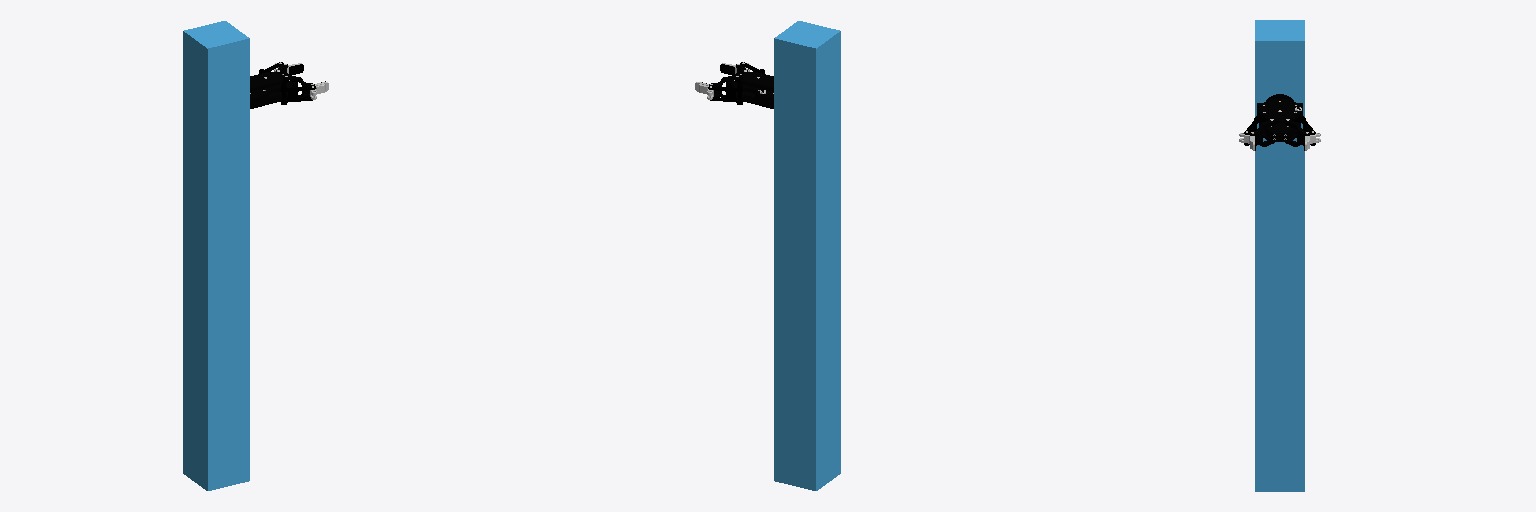
The robot description file, URDF, robot "dh_robotics_ag95_gripper":
<?xml version="1.0" ?>
<!-- =================================================================================== -->
<!-- |    This document was autogenerated by xacro from gripper.xacro | -->
<!-- |    EDITING THIS FILE BY HAND IS NOT RECOMMENDED                                 | -->
<!-- =================================================================================== -->
<robot name="dh_robotics_ag95_gripper" xmlns:xacro="http://ros.org/wiki/xacro">
  <gazebo>
    <plugin filename="libgazebo_ros_control.so" name="gazebo_ros_control">
      <robotNamespace>/</robotNamespace>
    </plugin>
  </gazebo>
  <link name="world"/>
  <joint name="world_fixed" type="fixed">
    <origin rpy="0 0 0" xyz="0 0 0"/>
    <parent link="world"/>
    <child link="gripper_root_link"/>
  </joint>
  <link name="gripper_root_link">
    <visual>
      <origin rpy="0 0 0" xyz="0 0 0.5"/>
      <geometry>
        <box size="0.1 0.1 1.0"/>
      </geometry>
    </visual>
    <collision>
      <origin rpy="0 0 0" xyz="0 0 0.5"/>
      <geometry>
        <box size="0.1 0.1 1.0"/>
      </geometry>
    </collision>
    <inertial>
      <mass value="1e2"/>
      <origin xyz="0.0 0.0 0.0"/>
      <inertia ixx="0.000001" ixy="0.000000" ixz="0.000000" iyx="0.000000" iyy="0.000001" iyz="0.000000" izx="0.000000" izy="0.000000" izz="0.000001"/>
    </inertial>
  </link>
  <joint name="ee_fixed_joint" type="fixed">
    <parent link="gripper_root_link"/>
    <child link="ee_link"/>
    <origin rpy="0 0 0" xyz="0.05 0 0.85"/>
  </joint>
  <link name="ee_link"/>

  <joint name="gripper_base_joint" type="fixed">
    <parent link="ee_link"/>
    <child link="gripper_base_link"/>
    <origin rpy="1.57075 0 1.57075" xyz="0 0 0"/>
  </joint>
  <link name="gripper_base_link">
    <visual>
        <geometry>
          <mesh filename="package://gripper/meshes/base_link.dae"  />
        </geometry>
    </visual>
    <collision>
        <geometry>
            <mesh filename="package://gripper/meshes/base_link.dae"  />
        </geometry>
    </collision>
        <inertial>
          <mass value="0.83416" />
            <origin xyz="0.0 0.0 0.0" />
              <inertia ixx = "0.0013016" ixy = "-6.9374e-07" ixz = "5.9848e-07"
                       iyx = "0.000000" iyy = "0.00049972" iyz = "2.0244E-07"
                       izx = "0.000000" izy = "0.000000" izz = "0.001498" />
       </inertial>
    </link>
  <gazebo reference="gripper_base_link">
    <implicitSpringDamper>1</implicitSpringDamper>
    <mu1>100000</mu1>
    <mu2>100000</mu2>
    <kp>100000000.0</kp>
    <kd>1.0</kd>
  </gazebo>
  <joint name="gripper_finger1_joint" type="revolute">
    <parent link="gripper_base_link"/>
    <child link="gripper_finger1_knuckle_link"/>
      <axis xyz="0 -1 0"/>
      <origin rpy="0.0 0.0 3.14" xyz="-0.016 0 0.10586"/>
      <limit lower="0.0" upper="0.6524" velocity="2.0" effort="1000"/>
  </joint>
  <joint name="gripper_finger2_joint" type="revolute">
    <parent link="gripper_base_link"/>
    <child link="gripper_finger2_knuckle_link"/>
    <axis xyz="0 -1 0"/>
    <origin rpy="0.0 0.0 0.0" xyz="0.016  0 0.10586 "/>
    <limit lower="-3.14" upper="3.14" velocity="100.0" effort="1000"/>
    <mimic joint="gripper_finger1_joint"/>
  </joint>
  <link name="gripper_finger1_knuckle_link">
            <visual>
                <geometry>
                    <mesh filename="package://gripper/meshes/crank_Link.dae"  />
                </geometry>
            </visual>
            <collision>
                <geometry>
                    <mesh filename="package://gripper/meshes/crank_Link.dae"  />
                </geometry>
            </collision>
            <inertial>
                <mass value="0.011111" />
                <origin xyz="0.0 0.0 0.0" />
                <inertia ixx = "3.88172e-06" ixy = "-2.29456e-13" ixz = "8.33e-07"
                         iyx = "0.000000" iyy = "1.92174e-06" iyz = "2.04435e-13"
                         izx = "0.000000" izy = "0.000000" izz = "4.32374e-06" />
            </inertial>
        </link>
  <gazebo reference="gripper_finger1_knuckle_link">
    <implicitSpringDamper>1</implicitSpringDamper>
    <mu1>100000</mu1>
    <mu2>100000</mu2>
    <kp>100000000.0</kp>
    <kd>1.0</kd>
  </gazebo>
  <link name="gripper_finger2_knuckle_link">
            <visual>
                <geometry>
                    <mesh filename="package://gripper/meshes/crank_Link.dae"  />
                </geometry>
            </visual>
            <collision>
                <geometry>
                    <mesh filename="package://gripper/meshes/crank_Link.dae"  />
                </geometry>
            </collision>
            <inertial>
                <mass value="0.011111" />
                <origin xyz="0.0 0.0 0.0" />
                <inertia ixx = "3.88172e-06" ixy = "-2.29456e-13" ixz = "8.33e-07"
                         iyx = "0.000000" iyy = "1.92174e-06" iyz = "2.04435e-13"
                         izx = "0.000000" izy = "0.000000" izz = "4.32374e-06" />
            </inertial>
        </link>
  <gazebo reference="gripper_finger2_knuckle_link">
    <implicitSpringDamper>1</implicitSpringDamper>
    <mu1>100000</mu1>
    <mu2>100000</mu2>
    <kp>100000000.0</kp>
    <kd>1.0</kd>
  </gazebo>
        <joint name="gripper_finger1_finger_joint" type="continuous">
            <parent link="gripper_finger1_knuckle_link"/>
            <child link="gripper_finger1_finger_link"/>
            <axis xyz="0 -1 0"/>
            <origin xyz="0.0292080077784 0.0 -0.0227132622407" rpy="0 0 0" />
            <limit lower="-3.14" upper="3.14" velocity="100.0" effort="0.1"/>
            <mimic joint="gripper_finger1_joint" multiplier="0.4563942" offset="0"/>
        </joint>

        <joint name="gripper_finger2_finger_joint" type="continuous">
            <parent link="gripper_finger2_knuckle_link"/>
            <child link="gripper_finger2_finger_link"/>
            <axis xyz="0 -1 0"/>
            <origin xyz="0.0292080077784 0.0 -0.0227132622407" rpy="0 0 0" />
            <limit lower="-3.14" upper="3.14" velocity="100.0" effort="0.1"/>
            <mimic joint="gripper_finger1_joint" multiplier="0.4563942" offset="0"/>
        </joint>
  <link name="gripper_finger1_finger_link">
            <visual>
                <geometry>
                    <mesh filename="package://gripper/meshes/rod_Link.dae"  />
                </geometry>
            </visual>
            <collision>
                <geometry>
                    <mesh filename="package://gripper/meshes/rod_Link.dae"  />
                </geometry>
            </collision>
            <inertial>
                <mass value="0.0222871" />
                <origin xyz="0.0 0.0 0.0" />
                <inertia ixx = "8.72836e-06" ixy = "7.0843e-15" ixz = "-2.18833e-06"
                         iyx = "-0.000002" iyy = "7.26157e-06" iyz = "7.6579e-15"
                         izx = "0.000000" izy = "0.000000" izz = "3.3425e-06" />
            </inertial>
        </link>
  <gazebo reference="gripper_finger1_finger_link">
    <implicitSpringDamper>1</implicitSpringDamper>
    <mu1>100000</mu1>
    <mu2>100000</mu2>
    <kp>100000000.0</kp>
    <kd>1.0</kd>
  </gazebo>
  <link name="gripper_finger2_finger_link">
<visual>
                <geometry>
                    <mesh filename="package://gripper/meshes/rod_Link.dae"  />
                </geometry>
            </visual>
            <collision>
                <geometry>
                    <mesh filename="package://gripper/meshes/rod_Link.dae"  />
                </geometry>
            </collision>
            <inertial>
                <mass value="0.0222871" />
                <origin xyz="0.0 0.0 0.0" />
                <inertia ixx = "8.72836e-06" ixy = "7.0843e-15" ixz = "-2.18833e-06"
                         iyx = "-0.000002" iyy = "7.26157e-06" iyz = "7.6579e-15"
                         izx = "0.000000" izy = "0.000000" izz = "3.3425e-06" />
            </inertial>
        </link>
  <gazebo reference="gripper_finger2_finger_link">
    <implicitSpringDamper>1</implicitSpringDamper>
    <mu1>100000</mu1>
    <mu2>100000</mu2>
    <kp>100000000.0</kp>
    <kd>1.0</kd>
  </gazebo>

  <joint name="gripper_finger1_inner_knuckle_joint" type="continuous">
    <parent link="gripper_base_link"/>
    <child link="gripper_finger1_inner_knuckle_link"/>
            <axis xyz="0 -1 0"/>
            <origin rpy="0.0 0.0 3.14" xyz="-0.016 0 0.10586"/>
            <limit lower="-3.14" upper="3.14" velocity="100.0" effort="0.1"/>
            <mimic joint="gripper_finger1_joint" multiplier="1.49462955"  offset="0"/>
 </joint>
  <joint name="gripper_finger2_inner_knuckle_joint" type="continuous">
    <parent link="gripper_base_link"/>
    <child link="gripper_finger2_inner_knuckle_link"/>
            <axis xyz="0 -1 0"/>
            <origin rpy="0.0 0.0 0.0" xyz="0.016 0 0.10586"/>
            <limit lower="-3.14" upper="3.14" velocity="100.0" effort="0.1"/>
            <mimic joint="gripper_finger1_joint" multiplier="1.49462955"  offset="0"/>
  </joint>
     <link name="gripper_finger1_inner_knuckle_link">
            <visual>
                <geometry>
                    <mesh filename="package://gripper/meshes/proximal_phalanx_Link.dae"  />
                </geometry>
            </visual>
            <collision>
                <geometry>
                    <mesh filename="package://gripper/meshes/proximal_phalanx_Link.dae"  />
                </geometry>
            </collision>
            <inertial>
                <mass value="0.0318004" />
                <origin xyz="0.0 0.0 0.0" />
                <inertia ixx = "1.39848e-05" ixy = "-9.54763e-15" ixz = "-5.01422e-06"
                         iyx = "0.000000" iyy = "1.04943e-05" iyz = "8.94585e-16"
                         izx = "0.000000" izy = "0.000000" izz = "1.36183e-05" />
            </inertial>
      </link>
  <gazebo reference="gripper_finger1_inner_knuckle_link">
    <implicitSpringDamper>1</implicitSpringDamper>
    <mu1>100000</mu1>
    <mu2>100000</mu2>
    <kp>100000000.0</kp>
    <kd>1.0</kd>
  </gazebo>
<link name="gripper_finger2_inner_knuckle_link">
            <visual>
                <geometry>
                    <mesh filename="package://gripper/meshes/proximal_phalanx_Link.dae"  />
                </geometry>
            </visual>
            <collision>
                <geometry>
                    <mesh filename="package://gripper/meshes/proximal_phalanx_Link.dae"  />
                </geometry>
            </collision>
            <inertial>
                <mass value="0.0318004" />
                <origin xyz="0.0 0.0 0.0" />
                <inertia ixx = "1.39848e-05" ixy = "-9.54763e-15" ixz = "-5.01422e-06"
                         iyx = "0.000000" iyy = "1.04943e-05" iyz = "8.94585e-16"
                         izx = "0.000000" izy = "0.000000" izz = "1.36183e-05" />
            </inertial>
        </link>
   <gazebo reference="gripper_finger2_inner_knuckle_link">
    <implicitSpringDamper>1</implicitSpringDamper>
    <mu1>100000</mu1>
    <mu2>100000</mu2>
    <kp>100000000.0</kp>
    <kd>1.0</kd>
  </gazebo>
<joint name="gripper_finger1_finger_tip_joint" type="continuous">
    <parent link="gripper_finger1_inner_knuckle_link"/>
    <child link="gripper_finger1_finger_tip_link"/>
            <axis xyz="0 1 0"/>
            <origin xyz="0.0394969463769 0.0 0.0382752038125 " rpy="0.0 0.0 0.0"/>
            <limit lower="-3.14" upper="3.14" velocity="100.0" effort="0.1"/>
            <mimic joint="gripper_finger1_joint" multiplier="1.49462955"/>
        </joint>
  <joint name="gripper_finger2_finger_tip_joint" type="continuous">
    <parent link="gripper_finger2_inner_knuckle_link"/>
    <child link="gripper_finger2_finger_tip_link"/>
            <axis xyz="0 1 0"/>
            <origin rpy="0.0 0.0 0.0" xyz="0.0394969463769  0.0 0.0382752038125  "/>
            <limit lower="-3.14" upper="3.14" velocity="100.0" effort="0.1"/>
            <mimic joint="gripper_finger1_joint" multiplier="1.49462955"/>
  </joint>
  <link name="gripper_finger1_finger_tip_link">
            <visual>
                <geometry>
                    <mesh filename="package://gripper/meshes/distal_phalanx_Link.dae"  />
                </geometry>
            </visual>
            <collision>
                <geometry>
                    <mesh filename="package://gripper/meshes/distal_phalanx_Link.dae"  />
                </geometry>
            </collision>
            <inertial>
                <mass value="0.0124305" />
                <origin xyz="0.0 0.0 0.0" />
                <inertia ixx = "2.84217e-06" ixy = "-2.48048e-15" ixz = "8.24539e-07"
                         iyx = "0.000000" iyy = "3.03961e-06" iyz = "2.16427e-13"
                         izx = "0.000000" izy = "0.000000" izz = "1.11815e-06" />
            </inertial>
        </link> 
  <gazebo reference="gripper_finger1_finger_tip_link">
    <implicitSpringDamper>1</implicitSpringDamper>
    <mu1>100000</mu1>
    <mu2>100000</mu2>
    <kp>100000000.0</kp>
    <kd>1.0</kd>
  </gazebo>
  <link name="gripper_finger2_finger_tip_link">
            <visual>
                <geometry>
                    <mesh filename="package://gripper/meshes/distal_phalanx_Link.dae"  />
                </geometry>
            </visual>
            <collision>
                <geometry>
                    <mesh filename="package://gripper/meshes/distal_phalanx_Link.dae"  />
                </geometry>
            </collision>
            <inertial>
                <mass value="0.0124305" />
                <origin xyz="0.0 0.0 0.0" />
                <inertia ixx = "2.84217e-06" ixy = "-2.48048e-15" ixz = "8.24539e-07"
                         iyx = "0.000000" iyy = "3.03961e-06" iyz = "2.16427e-13"
                         izx = "0.000000" izy = "0.000000" izz = "1.11815e-06" />
            </inertial>
        </link> 
  <gazebo reference="gripper_finger2_finger_tip_link">
    <implicitSpringDamper>1</implicitSpringDamper>
    <mu1>100000</mu1>
    <mu2>100000</mu2>
    <kp>100000000.0</kp>
    <kd>1.0</kd>
  </gazebo>
  
    <transmission name="gripper_finger1_trans">
    <type>transmission_interface/SimpleTransmission</type>
    <joint name="gripper_finger1_joint">
      <hardwareInterface>PositionJointInterface</hardwareInterface>
    </joint>
    <actuator name="gripper_finger1_motor">
      <mechanicalReduction>1</mechanicalReduction>
      <hardwareInterface>PositionJointInterface</hardwareInterface>
    </actuator>
  </transmission>
  <gazebo>
    <!-- loading plugin: mimic joints works in gazebo now -->
    <plugin filename="libroboticsgroup_gazebo_mimic_joint_plugin.so" name="mimic_dh_robotics_ag95_1">
      <joint>gripper_finger1_joint</joint>
      <mimicJoint>gripper_finger2_joint</mimicJoint>
      <multiplier>1.0</multiplier>
      <offset>0.0</offset>
    </plugin>
    <plugin filename="libroboticsgroup_gazebo_mimic_joint_plugin.so" name="mimic_dh_robotics_ag95_2">
      <joint>gripper_finger1_joint</joint>
      <mimicJoint>gripper_finger2_inner_knuckle_joint</mimicJoint>
      <multiplier>1.49462955</multiplier>
      <offset>0.0</offset>
    </plugin>
    <plugin filename="libroboticsgroup_gazebo_mimic_joint_plugin.so" name="mimic_dh_robotics_ag95_3">
      <joint>gripper_finger1_joint</joint>
      <mimicJoint>gripper_finger1_inner_knuckle_joint</mimicJoint>
      <multiplier>1.49462955</multiplier>
      <offset>0.0</offset>
    </plugin>
    <plugin filename="libroboticsgroup_gazebo_mimic_joint_plugin.so" name="mimic_dh_robotics_ag95_4">
      <joint>gripper_finger1_joint</joint>
      <mimicJoint>gripper_finger1_finger_tip_joint</mimicJoint>
      <multiplier>1.49462955</multiplier>          
      <offset>0.0</offset>
    </plugin>
    <plugin filename="libroboticsgroup_gazebo_mimic_joint_plugin.so" name="mimic_dh_robotics_ag95_5">
      <joint>gripper_finger1_joint</joint>
      <mimicJoint>gripper_finger2_finger_tip_joint</mimicJoint>
      <multiplier>1.49462955</multiplier>          
      <offset>0.0</offset>
    </plugin>
    <plugin filename="libroboticsgroup_gazebo_mimic_joint_plugin.so" name="mimic_dh_robotics_ag95_6">
      <joint>gripper_finger1_joint</joint>
      <mimicJoint>gripper_finger1_finger_joint</mimicJoint>
      <multiplier>0.4563942</multiplier>
      <offset>0.0</offset>
    </plugin>
    <plugin filename="libroboticsgroup_gazebo_mimic_joint_plugin.so" name="mimic_dh_robotics_ag95_7">
      <joint>gripper_finger1_joint</joint>
      <mimicJoint>gripper_finger2_finger_joint</mimicJoint>
      <multiplier>0.4563942</multiplier>
      <offset>0.0</offset>
    </plugin>
  </gazebo>
</robot>

--- Render facts (derived) ---
The picture shows the robot from 3 angles, left to right: view 1: azimuth 30°, elevation 25°; view 2: azimuth 150°, elevation 25°; view 3: azimuth 270°, elevation 25°; orthographic projection.
Robot: dh_robotics_ag95_gripper — 12 links, 11 joints (2 revolute, 6 continuous, 3 fixed); root link world; default pose: every joint at zero.
Links seen in each view (by area): view 1: gripper_root_link, gripper_base_link; view 2: gripper_root_link, gripper_base_link; view 3: gripper_root_link, gripper_base_link.
Link boxes in pixels (x1,y1,x2,y2): gripper_root_link: (183, 21, 249, 490); gripper_base_link: (250, 72, 297, 108); gripper_root_link: (774, 21, 840, 490); gripper_base_link: (726, 72, 773, 108); gripper_root_link: (1255, 20, 1304, 491); gripper_base_link: (1257, 94, 1302, 141).
Bounding box of the posed robot: 0.2841 × 0.1634 × 1 m (x, y, z).
Meshes: 5 distinct files referenced, 9 mesh visuals loaded (5 Collada DAE).